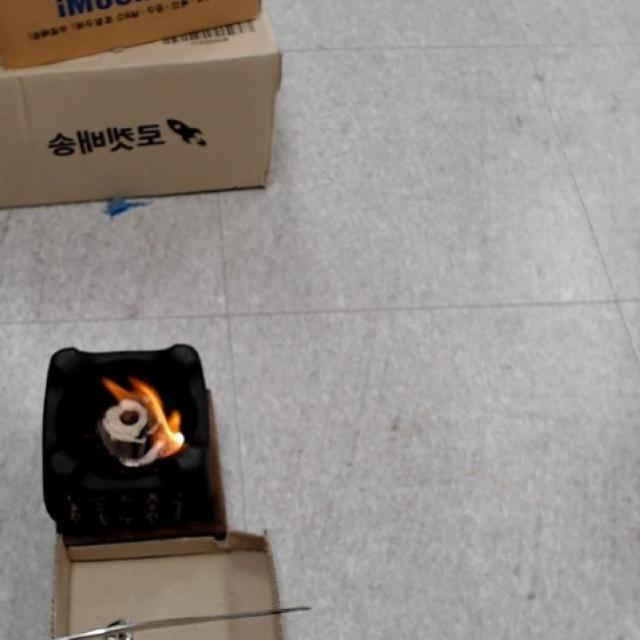Fire: (105, 373, 190, 458)
